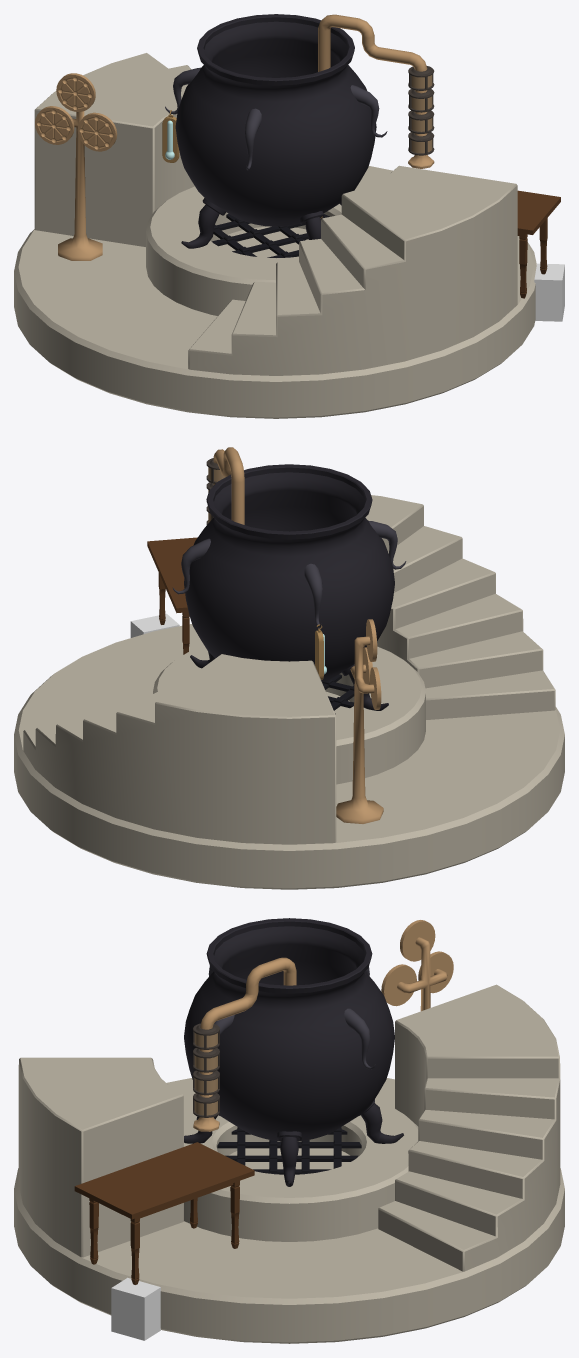
The model's file is Potion_Crafting_Station.fbx.
The picture shows the model from 3 angles, top to bottom: view 1: azimuth 30°, elevation 25°; view 2: azimuth 150°, elevation 25°; view 3: azimuth 270°, elevation 25°; orthographic projection. The views are drawn at different scales.
Visible parts, largest first — view 1: Cylinder.002, Cylinder.001, Cauldron, Cylinder.003, Cylinder, Cylinder.009, Temperature Copy.001, Cylinder.014, Cylinder.008, Cube.004, Cube.002, Cube.003 (+2 smaller); view 2: Cylinder.001, Cylinder.003, Cauldron, Cylinder.002, Cylinder, Cube.004, Cylinder.014, Cylinder.009, Cube.003, Temperature Copy.001, Cube.002; view 3: Cylinder.001, Cylinder.003, Cauldron, Cylinder.002, Cylinder, Cylinder.014, Cube.002, Cube.003, Cylinder.008, Cylinder.009, Temperature Copy.001, Cube.004 (+1 smaller).
Part boxes in pixels (left/top/right/bottom): Cylinder.002: left=188, top=165, right=517, bottom=375; Cylinder.001: left=14, top=166, right=536, bottom=418; Cauldron: left=165, top=14, right=387, bottom=248; Cylinder.003: left=34, top=53, right=194, bottom=246; Cylinder: left=146, top=186, right=361, bottom=315; Cylinder.009: left=318, top=14, right=434, bottom=168; Temperature Copy.001: left=35, top=106, right=117, bottom=151; Cylinder.014: left=517, top=190, right=560, bottom=298; Cylinder.008: left=408, top=66, right=434, bottom=155; Cube.004: left=58, top=111, right=102, bottom=260; Cube.002: left=212, top=213, right=329, bottom=257; Cube.003: left=534, top=263, right=564, bottom=321; Cylinder.001: left=14, top=624, right=564, bottom=889; Cylinder.003: left=23, top=654, right=336, bottom=844; Cauldron: left=173, top=464, right=406, bottom=710; Cylinder.002: left=365, top=495, right=555, bottom=719; Cylinder: left=153, top=645, right=425, bottom=784; Cube.004: left=336, top=636, right=383, bottom=823; Cylinder.014: left=147, top=537, right=197, bottom=654; Cylinder.009: left=213, top=447, right=244, bottom=524; Cube.003: left=130, top=613, right=179, bottom=637; Temperature Copy.001: left=363, top=647, right=381, bottom=709; Cube.002: left=322, top=674, right=354, bottom=714; Cylinder.001: left=14, top=1078, right=564, bottom=1343; Cylinder.003: left=378, top=984, right=560, bottom=1271; Cauldron: left=184, top=918, right=403, bottom=1186; Cylinder.002: left=18, top=1057, right=183, bottom=1257; Cylinder: left=184, top=1099, right=418, bottom=1241; Cylinder.014: left=74, top=1142, right=254, bottom=1284; Cube.002: left=217, top=1127, right=361, bottom=1174; Cube.003: left=111, top=1277, right=160, bottom=1340; Cylinder.008: left=193, top=1023, right=219, bottom=1117; Cylinder.009: left=193, top=957, right=296, bottom=1131; Temperature Copy.001: left=381, top=951, right=453, bottom=1006; Cube.004: left=397, top=937, right=447, bottom=1011.
Size of the model in its own units: 411 by 245 by 411.
Materials: 6 (2 with a texture image).
